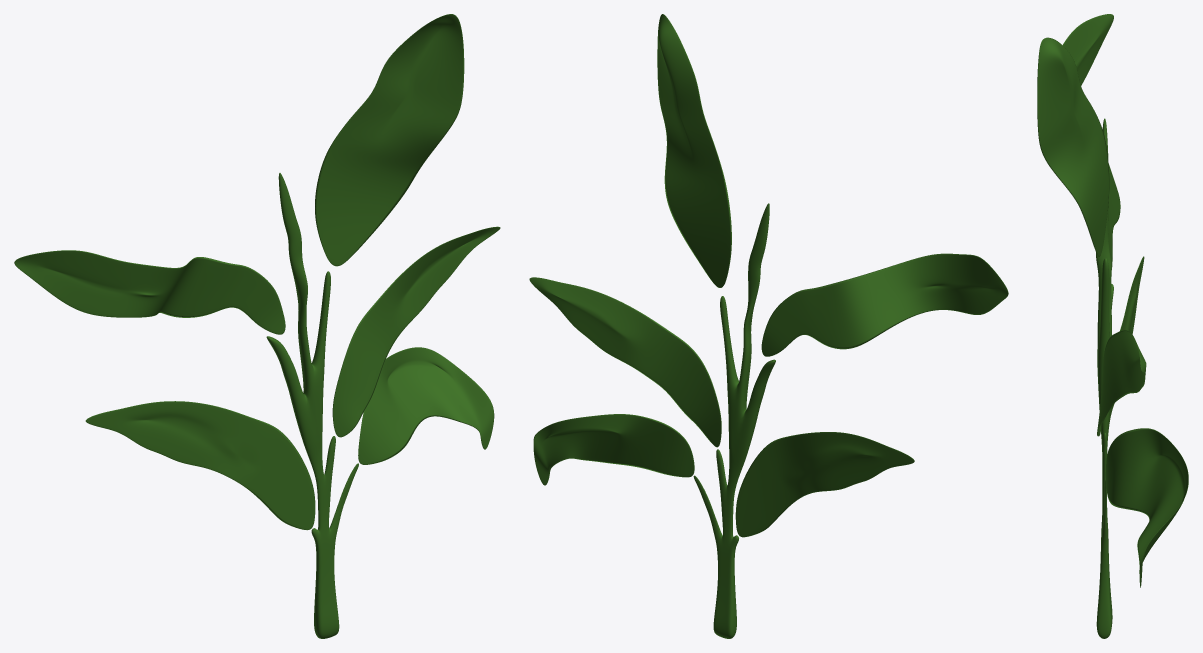
The model's file is Ginger.fbx.
The picture shows the model from 3 angles, left to right: view 1: azimuth 30°, elevation 25°; view 2: azimuth 150°, elevation 25°; view 3: azimuth 270°, elevation 25°; orthographic projection. The views are drawn at different scales.
Parts seen in each view (by area): view 1: Ginger; view 2: Ginger; view 3: Ginger.
Boxes of the visible parts, x1,y1,x2,y2 form: Ginger: (14, 14, 500, 638); Ginger: (529, 14, 1008, 638); Ginger: (1037, 14, 1188, 638).
Size of the model in its own units: 126 by 151 by 32.05.
